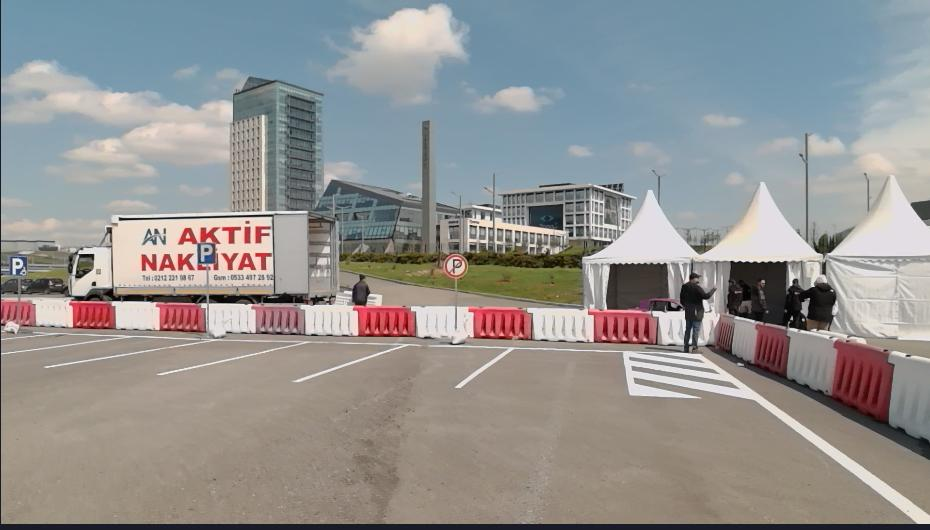nesne: (53, 328, 928, 524), (37, 335, 768, 401), (0, 295, 685, 346), (704, 313, 930, 442), (66, 209, 339, 301), (622, 352, 753, 400), (830, 336, 895, 423), (155, 342, 306, 377), (43, 339, 214, 369), (290, 344, 408, 384), (886, 349, 929, 445), (785, 328, 839, 395), (678, 270, 717, 353), (524, 307, 595, 342), (586, 308, 659, 342), (454, 348, 513, 388), (800, 273, 839, 333), (466, 305, 534, 339), (413, 304, 474, 340), (356, 304, 416, 337), (754, 323, 786, 378), (304, 304, 358, 336), (254, 302, 307, 334), (160, 301, 206, 335), (206, 301, 254, 332), (732, 316, 760, 367), (114, 300, 160, 329), (70, 300, 115, 328), (649, 308, 685, 342), (33, 297, 71, 327), (782, 279, 805, 328), (714, 312, 738, 354), (1, 296, 35, 324), (750, 274, 770, 318), (440, 252, 467, 278), (725, 277, 744, 313), (25, 276, 63, 293), (352, 271, 370, 303), (703, 313, 720, 344), (195, 240, 216, 265), (9, 253, 28, 277)
